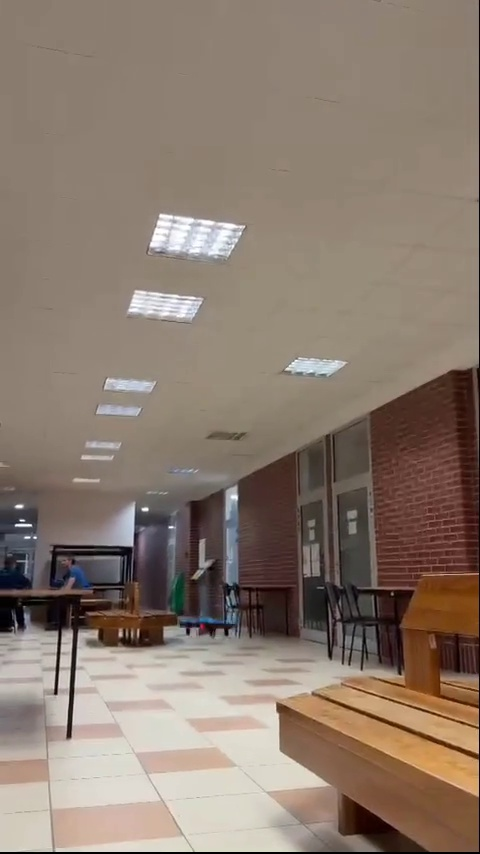drone: (182, 617, 239, 634)
no vest: (56, 554, 86, 610)
